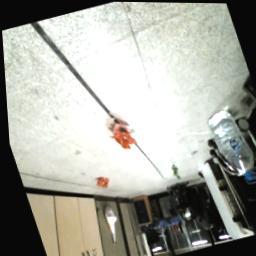herb: (168, 163, 181, 181)
wild: (104, 126, 139, 155), (91, 175, 110, 192)
